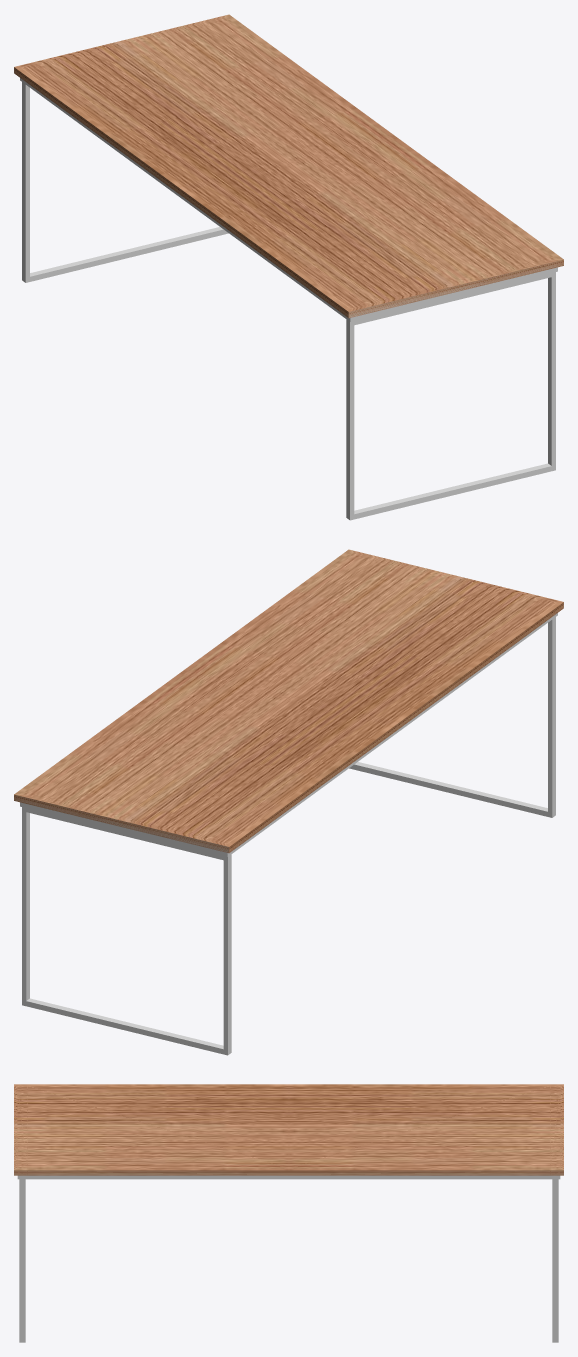
The model's file is table.glb.
The picture shows the model from 3 angles, top to bottom: view 1: azimuth 30°, elevation 25°; view 2: azimuth 150°, elevation 25°; view 3: azimuth 270°, elevation 25°; orthographic projection. The views are drawn at different scales.
Visible parts, largest first — view 1: Cube.004; view 2: Cube.004; view 3: Cube.004.
Boxes of the visible parts, x1,y1,x2,y2 form: Cube.004: (14, 14, 563, 520); Cube.004: (14, 549, 563, 1055); Cube.004: (14, 1084, 563, 1342).
Bounding box in the file's own units: 1.6 × 1.5 × 4.3.
Materials: 2 (1 with a texture image).
